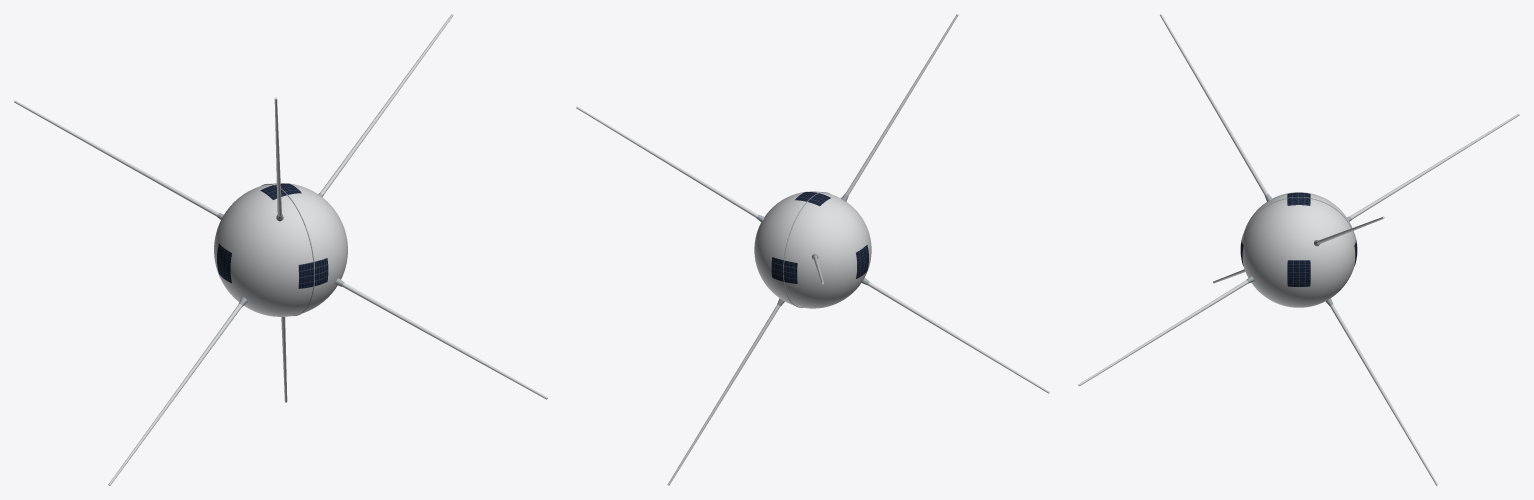
File: vanguard-1.glb
The picture shows the model from 3 angles, left to right: view 1: azimuth 30°, elevation 25°; view 2: azimuth 150°, elevation 25°; view 3: azimuth 270°, elevation 25°; orthographic projection. The views are drawn at different scales.
Parts seen in each view (by area): view 1: Aluminium sphere, 6.44 inches, Antenna 5 30.5 cm, Antenna 6 30.5 cm, Antenna 2 30.5 cm, Antenna 1 30.5 cm, Solar cell cluster 5; view 2: Aluminium sphere, 6.44 inches, Antenna 1 30.5 cm, Antenna 2 30.5 cm, Antenna 3 30.5 cm, Antenna 4 30.5 cm, Solar cell cluster 6; view 3: Aluminium sphere, 6.44 inches, Antenna 3 30.5 cm, Antenna 4 30.5 cm, Antenna 5 30.5 cm, Antenna 6 30.5 cm, Solar cell cluster 1.
Boxes of the visible parts, box(x1,y1,x2,y2) form: Aluminium sphere, 6.44 inches: box(214, 183, 347, 316); Antenna 5 30.5 cm: box(342, 283, 547, 399); Antenna 6 30.5 cm: box(14, 100, 218, 216); Antenna 2 30.5 cm: box(108, 303, 242, 485); Antenna 1 30.5 cm: box(320, 14, 453, 195); Solar cell cluster 5: box(298, 258, 328, 288); Aluminium sphere, 6.44 inches: box(754, 191, 871, 308); Antenna 1 30.5 cm: box(576, 106, 758, 217); Antenna 2 30.5 cm: box(868, 282, 1049, 393); Antenna 3 30.5 cm: box(845, 14, 958, 195); Antenna 4 30.5 cm: box(667, 304, 780, 485); Solar cell cluster 6: box(771, 257, 797, 283); Aluminium sphere, 6.44 inches: box(1242, 192, 1355, 307); Antenna 3 30.5 cm: box(1160, 14, 1267, 195); Antenna 4 30.5 cm: box(1330, 304, 1437, 485); Antenna 5 30.5 cm: box(1078, 280, 1248, 386); Antenna 6 30.5 cm: box(1350, 113, 1519, 219); Solar cell cluster 1: box(1287, 260, 1310, 286).
Bounding box in the file's own units: 100 × 100 × 100.
3 materials, 1 textured.
